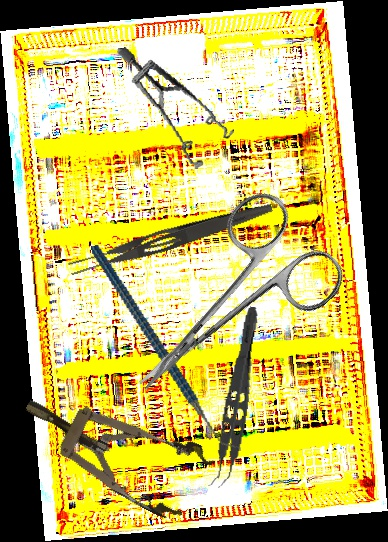Chopper: (90, 223, 242, 474)
Dressing Forceps: (66, 193, 275, 282)
Iris Scissors: (94, 181, 353, 433)
Speculum: (9, 367, 218, 527), (116, 31, 240, 179)
Tissue Forceps: (206, 303, 262, 491)
